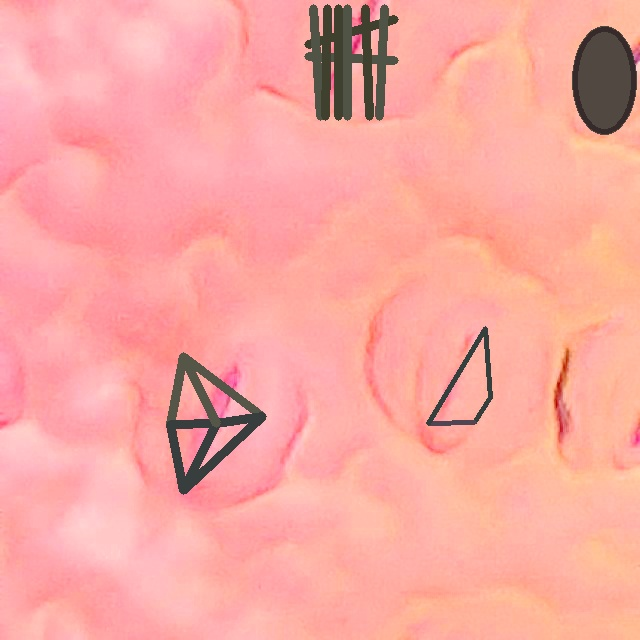close: (426, 327, 491, 424)
open: (166, 352, 266, 494), (304, 4, 398, 120), (572, 25, 637, 134)
